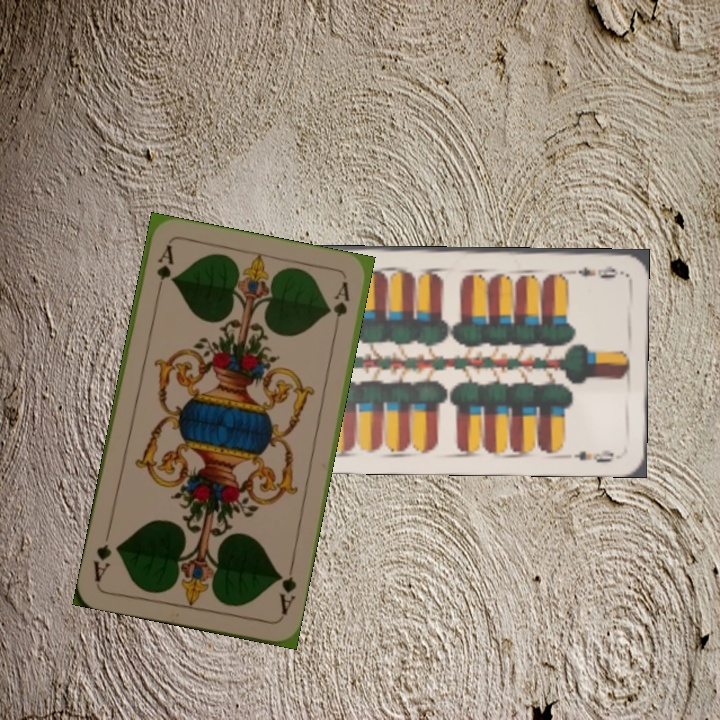E9: (564, 261, 621, 281)
GA: (274, 561, 299, 620), (152, 241, 176, 299)
